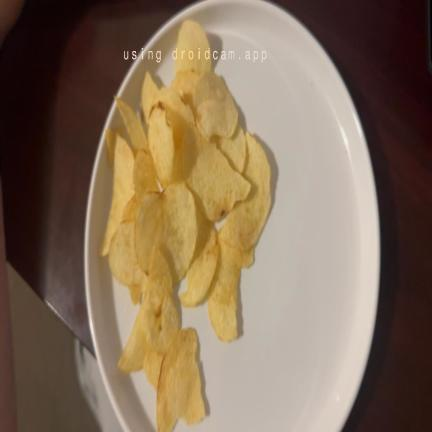chips: (101, 21, 271, 431), (135, 183, 197, 283), (220, 133, 271, 251), (184, 142, 250, 220), (157, 329, 204, 431), (100, 135, 133, 255), (180, 212, 219, 307), (162, 183, 197, 283), (208, 242, 240, 341), (194, 71, 237, 138), (109, 222, 143, 298), (149, 104, 180, 187), (153, 88, 194, 146), (143, 288, 179, 354), (135, 194, 163, 272), (118, 303, 147, 372), (175, 21, 211, 73), (115, 97, 148, 149), (216, 125, 246, 172), (133, 150, 159, 202), (145, 250, 172, 296), (172, 71, 199, 110), (142, 72, 159, 125), (143, 348, 162, 389), (106, 129, 121, 166), (122, 195, 140, 222), (128, 285, 142, 305), (242, 248, 254, 268)
plate: (118, 1, 379, 431)
